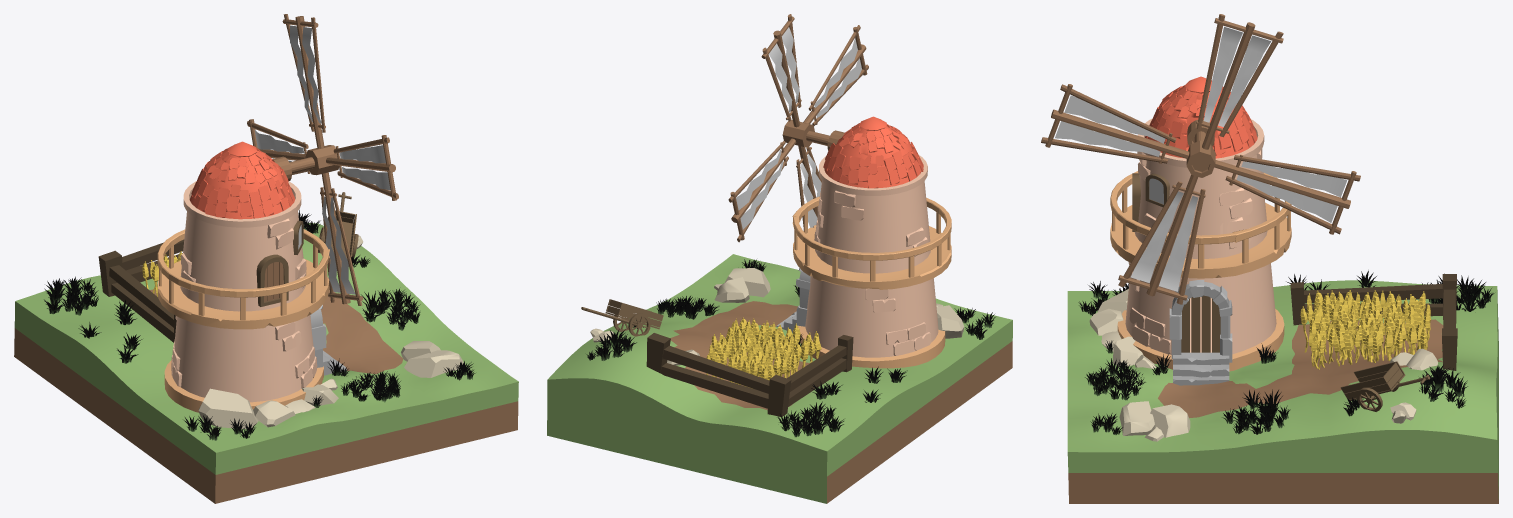
File: wheethouse_normalfixed.fbx
The picture shows the model from 3 angles, left to right: view 1: azimuth 30°, elevation 25°; view 2: azimuth 150°, elevation 25°; view 3: azimuth 270°, elevation 25°; orthographic projection. The views are drawn at different scales.
Visible parts, largest first — view 1: Plane, Circle, Plane.005, Cube.031, Cube.016, Cube.027, Circle.001, Cube.006, Cube.013, Cube, Cube.004, Cube.005 (+1 smaller); view 2: Plane, Circle, Plane.005, Cube, Cube.037, Cube.031, Cube.027, Circle.001, Cube.006, Cube.013, Plane.027, Cube.005 (+1 smaller); view 3: Plane, Plane.005, Circle, Cube.037, Cube.031, Cube.027, Cube.006, Cube.013, Cube.016, Plane.001, Plane.027, Circle.001 (+6 smaller).
Part boxes in pixels (left/top/right/bottom): Plane: left=14, top=223, right=518, bottom=503; Circle: left=157, top=150, right=329, bottom=412; Plane.005: left=247, top=14, right=398, bottom=305; Cube.031: left=191, top=147, right=294, bottom=218; Cube.016: left=198, top=378, right=338, bottom=428; Cube.027: left=171, top=218, right=317, bottom=388; Circle.001: left=157, top=229, right=329, bottom=297; Cube.006: left=109, top=265, right=176, bottom=342; Cube.013: left=401, top=341, right=463, bottom=377; Cube: left=98, top=239, right=184, bottom=296; Cube.004: left=256, top=254, right=288, bottom=306; Cube.005: left=159, top=244, right=327, bottom=320; Plane: left=547, top=254, right=1012, bottom=503; Circle: left=793, top=125, right=951, bottom=368; Plane.005: left=728, top=14, right=868, bottom=242; Cube: left=646, top=333, right=791, bottom=416; Cube.037: left=706, top=317, right=821, bottom=397; Cube.031: left=823, top=123, right=923, bottom=188; Cube.027: left=814, top=190, right=931, bottom=355; Circle.001: left=792, top=196, right=951, bottom=260; Cube.006: left=787, top=335, right=853, bottom=406; Cube.013: left=714, top=268, right=770, bottom=302; Plane.027: left=581, top=299, right=663, bottom=336; Cube.005: left=794, top=212, right=950, bottom=281; Plane: left=1067, top=280, right=1498, bottom=503; Plane.005: left=1041, top=14, right=1360, bottom=304; Circle: left=1110, top=86, right=1291, bottom=371; Cube.037: left=1300, top=290, right=1430, bottom=369; Cube.031: left=1146, top=85, right=1257, bottom=156; Cube.027: left=1128, top=148, right=1263, bottom=354; Cube.006: left=1290, top=282, right=1442, bottom=325; Cube.013: left=1119, top=401, right=1190, bottom=441; Cube.016: left=1089, top=289, right=1156, bottom=368; Plane.001: left=1181, top=295, right=1220, bottom=352; Plane.027: left=1340, top=361, right=1430, bottom=411; Circle.001: left=1110, top=171, right=1291, bottom=244.
Bounding box in the file's own units: 201 × 248 × 245.
